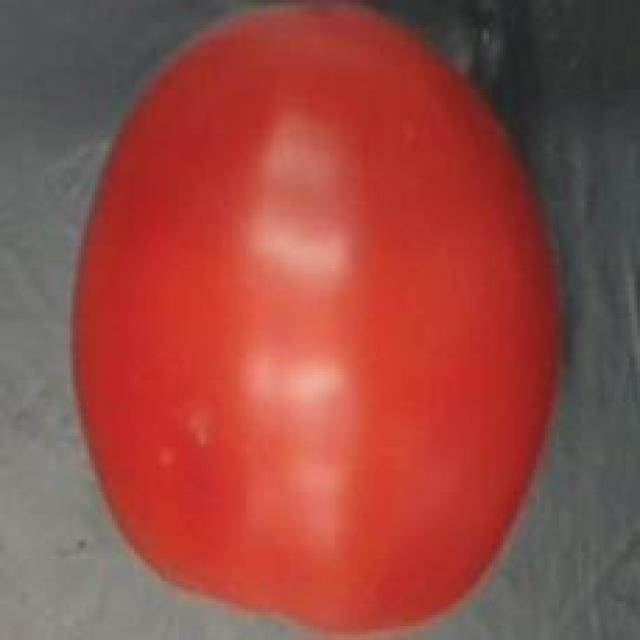ripe tomato: (64, 3, 582, 640)
